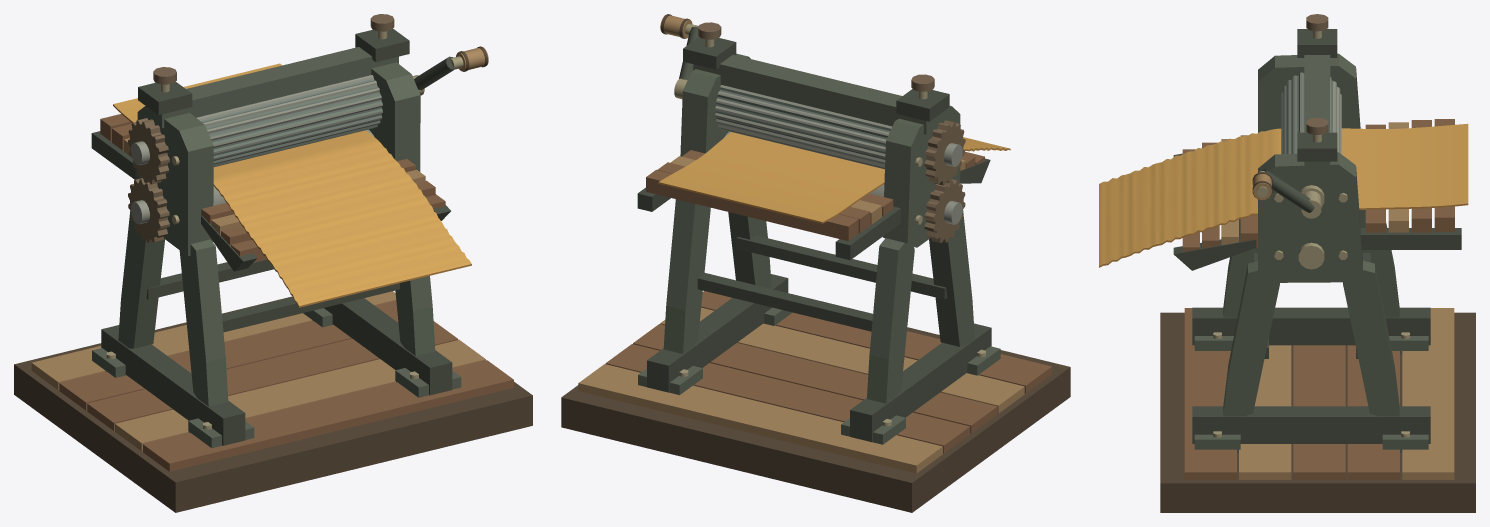
The model's file is heritage-rubber-sheet-roller.glb.
The picture shows the model from 3 angles, left to right: view 1: azimuth 30°, elevation 25°; view 2: azimuth 150°, elevation 25°; view 3: azimuth 270°, elevation 25°; orthographic projection. The views are drawn at different scales.
Visible parts, largest first — view 1: WOODEN_DISPLAY_BOARD_SURFACE, RUBBER_MOCK_SHEET_RIBBED_OUTFEED, Low narrow workshop display base, RUBBER_ROLLER_RIBBED_UPPER, Rigid cast top bridge, Bifurcated vertical roller bearing housing, Splayed tapered frame leg, Welded low frame rail, Welded low frame rail.001, Splayed tapered frame leg.001, Bifurcated vertical roller bearing housing.001, Splayed tapered frame leg.002 (+13 smaller); view 2: WOODEN_DISPLAY_BOARD_SURFACE, Low narrow workshop display base, RUBBER_MOCK_SHEET_RIBBED_OUTFEED, RUBBER_ROLLER_RIBBED_UPPER, Rigid cast top bridge, Splayed tapered frame leg.001, Splayed tapered frame leg.003, Bifurcated vertical roller bearing housing, Welded low frame rail, INLET_WORKTRAY_SLATS, Welded low frame rail.001, Splayed tapered frame leg (+11 smaller); view 3: RUBBER_MOCK_SHEET_RIBBED_OUTFEED, WOODEN_DISPLAY_BOARD_SURFACE, Low narrow workshop display base, Bifurcated vertical roller bearing housing.001, Welded low frame rail.001, Welded low frame rail, Splayed tapered frame leg.003, Splayed tapered frame leg.002, Bifurcated vertical roller bearing housing, INLET_WORKTRAY_SLATS, RUBBER_ROLLER_RIBBED_UPPER, Rigid cast top bridge (+13 smaller).
Boxes of the visible parts, box(x1,y1,x2,y2) form: WOODEN_DISPLAY_BOARD_SURFACE: box(31, 291, 513, 471); RUBBER_MOCK_SHEET_RIBBED_OUTFEED: box(113, 63, 471, 307); Low narrow workshop display base: box(14, 296, 532, 512); RUBBER_ROLLER_RIBBED_UPPER: box(196, 75, 382, 166); Rigid cast top bridge: box(148, 47, 398, 128); Bifurcated vertical roller bearing housing: box(135, 106, 213, 256); Splayed tapered frame leg: box(179, 239, 228, 406); Welded low frame rail: box(101, 325, 245, 445); Welded low frame rail.001: box(324, 298, 452, 395); Splayed tapered frame leg.001: box(118, 211, 164, 348); Bifurcated vertical roller bearing housing.001: box(369, 62, 420, 171); Splayed tapered frame leg.002: box(395, 276, 435, 355); WOODEN_DISPLAY_BOARD_SURFACE: box(578, 291, 1051, 473); Low narrow workshop display base: box(561, 327, 1070, 512); RUBBER_MOCK_SHEET_RIBBED_OUTFEED: box(658, 132, 1010, 223); RUBBER_ROLLER_RIBBED_UPPER: box(715, 85, 891, 169); Rigid cast top bridge: box(693, 54, 939, 134); Splayed tapered frame leg.001: box(867, 238, 914, 403); Splayed tapered frame leg.003: box(663, 199, 710, 353); Bifurcated vertical roller bearing housing: box(882, 105, 960, 247); Welded low frame rail: box(850, 323, 991, 442); INLET_WORKTRAY_SLATS: box(646, 150, 893, 241); Welded low frame rail.001: box(647, 274, 788, 392); Splayed tapered frame leg: box(929, 210, 974, 346); RUBBER_MOCK_SHEET_RIBBED_OUTFEED: box(1099, 123, 1468, 267); WOODEN_DISPLAY_BOARD_SURFACE: box(1184, 308, 1454, 479); Low narrow workshop display base: box(1160, 312, 1475, 512); Bifurcated vertical roller bearing housing.001: box(1258, 152, 1362, 282); Welded low frame rail.001: box(1192, 406, 1430, 443); Welded low frame rail: box(1192, 307, 1430, 345); Splayed tapered frame leg.003: box(1343, 260, 1399, 416); Splayed tapered frame leg.002: box(1223, 261, 1279, 416); Bifurcated vertical roller bearing housing: box(1258, 53, 1360, 132); INLET_WORKTRAY_SLATS: box(1365, 119, 1454, 232); RUBBER_ROLLER_RIBBED_UPPER: box(1281, 72, 1341, 154); Rigid cast top bridge: box(1304, 55, 1330, 175).
Bounding box in the file's own units: 1.12 × 1.08 × 1.03.
